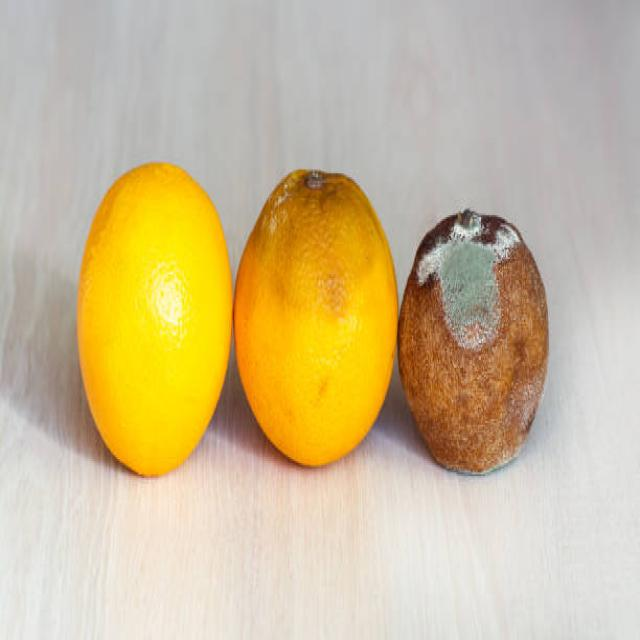Ripe: (77, 158, 233, 478)
Rotten: (396, 205, 551, 473)
overripe: (235, 164, 397, 470)
